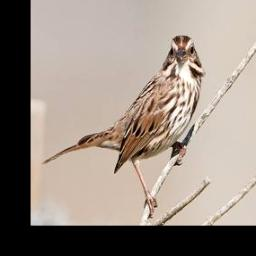Sparrow: (40, 33, 207, 219)
